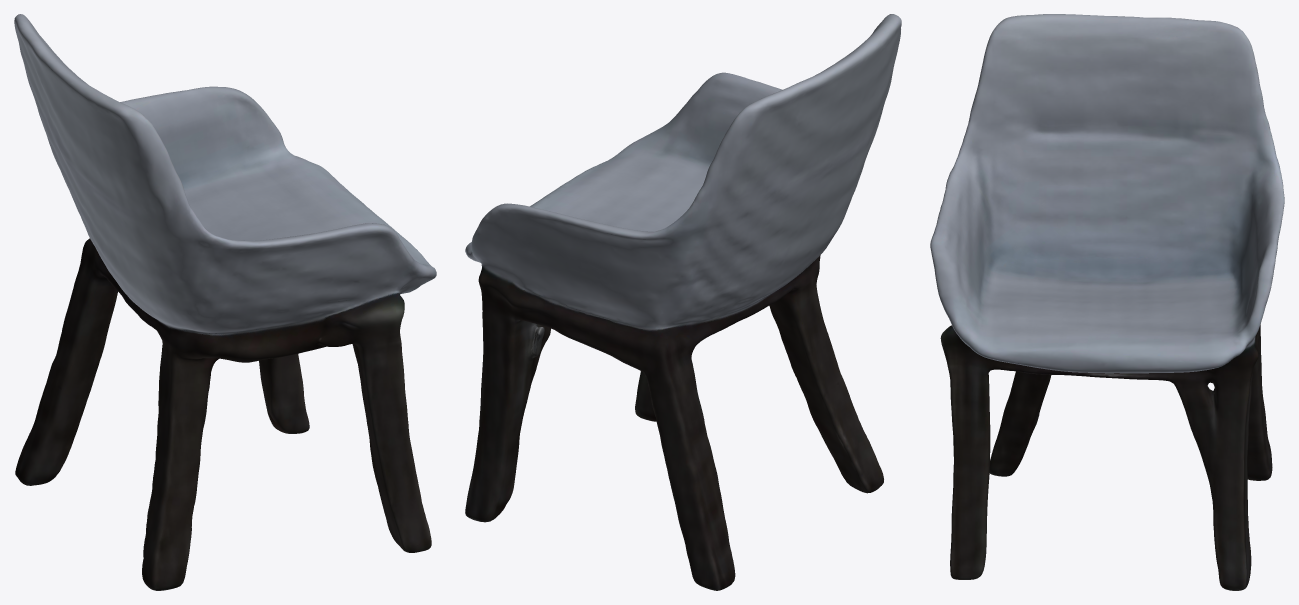
File: chair2.glb
3 renders of one model, left to right at view 1: azimuth 30°, elevation 25°; view 2: azimuth 150°, elevation 25°; view 3: azimuth 270°, elevation 25°, orthographic. The views are drawn at different scales.
Visible parts, largest first — view 1: world; view 2: world; view 3: world.
Part boxes in pixels (<box>): world: <box>14,14,436,590</box>; world: <box>465,14,901,590</box>; world: <box>930,14,1284,590</box>.
Bounding box in the file's own units: 0.3285 × 0.4641 × 0.3365.
Materials: 1 (1 with a texture image).
